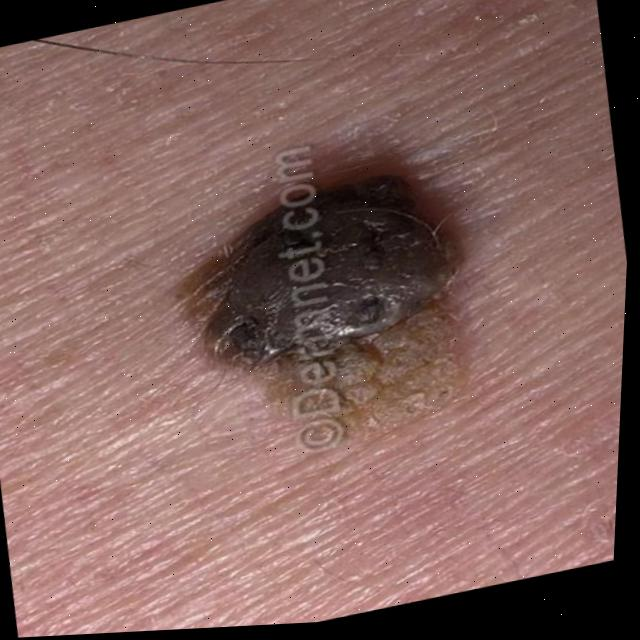Eczema: (201, 164, 460, 401)
